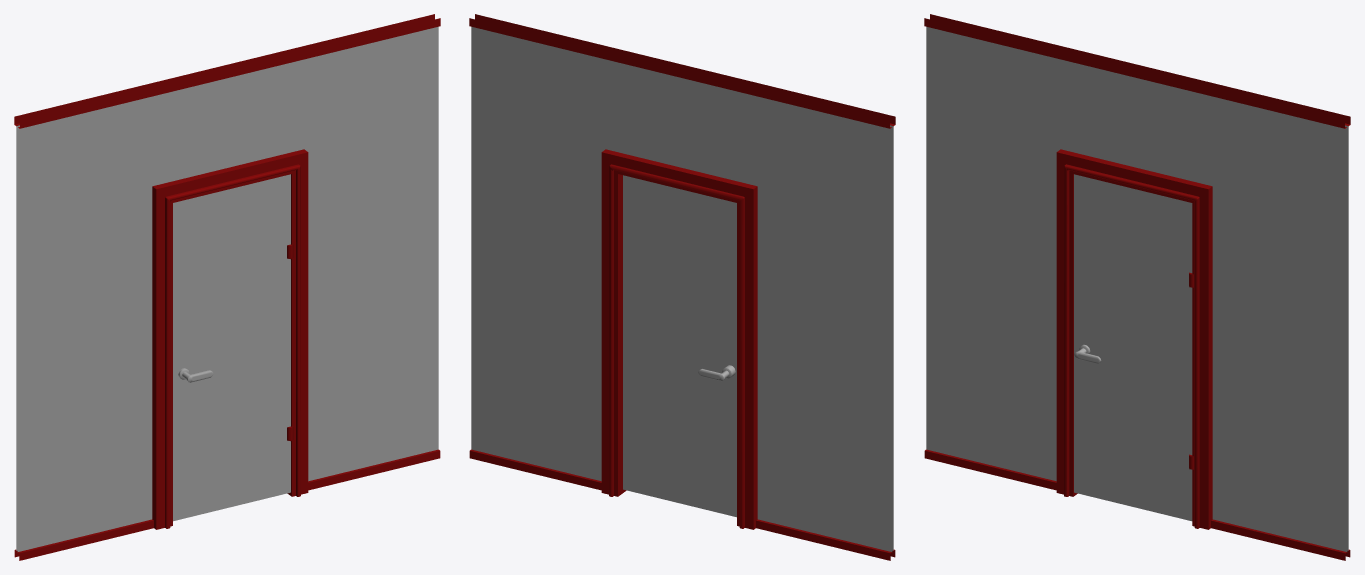
The model's file is Prop_Door_WallInt3x3_02.fbx.
3 views of the same model, side by side, from view 1: azimuth 30°, elevation 25°; view 2: azimuth 150°, elevation 25°; view 3: azimuth 330°, elevation 25° (orthographic).
Parts seen in each view (by area): view 1: Door_Frame, polySurface43; view 2: Door_Frame, polySurface43; view 3: Door_Frame, polySurface43.
Boxes of the visible parts, <box> form: Door_Frame: <box>14,14,440,560</box>; polySurface43: <box>173,174,290,521</box>; Door_Frame: <box>469,14,895,560</box>; polySurface43: <box>623,175,736,517</box>; Door_Frame: <box>924,14,1350,560</box>; polySurface43: <box>1074,174,1192,521</box>.
Size of the model in its own units: 300 by 300 by 27.27.
